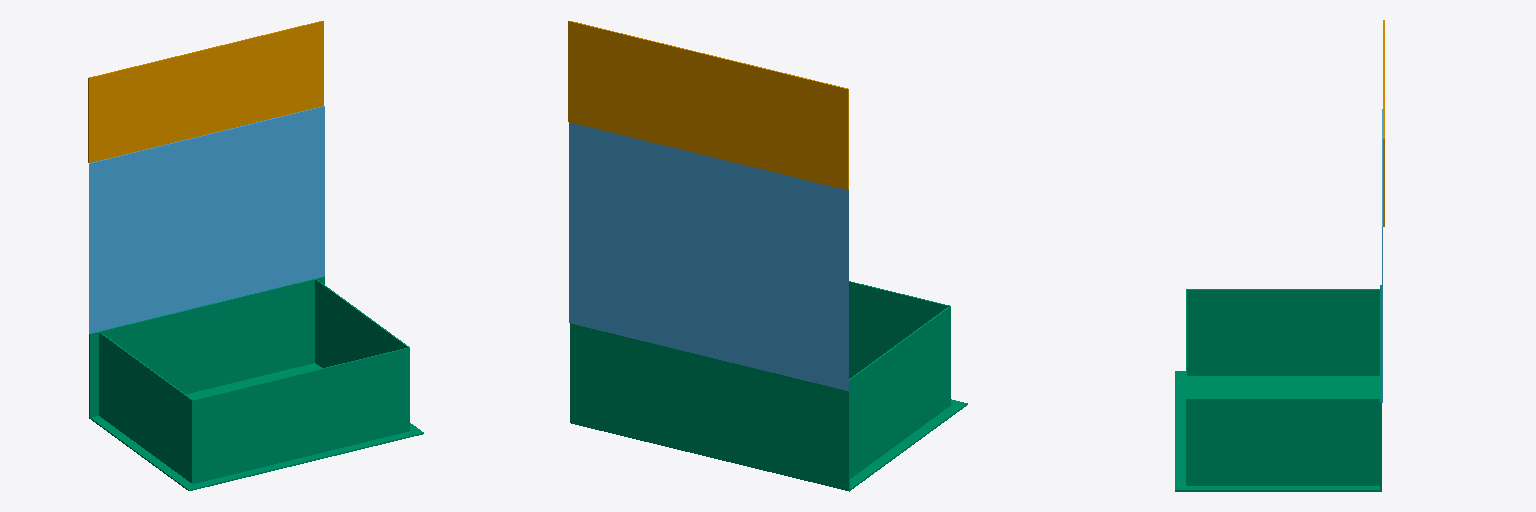
The robot description file, URDF, robot "object":
<?xml version="1.0" ?>
<robot name="object">
  <!-- <link name="world"/>
  <joint name="world_joint" type="fixed">
    <origin xyz="0.0 0.0 0.0"/>
    <parent link="world"/>
    <child link="link_0"/>
    <dynamics damping="0.0" friction="0.0"/>
  </joint> -->
  <joint name="mailer_lid_0" type="revolute">
    <origin xyz="0.0 0.0959433329385 0.0450000031292"/>
    <parent link="link_0"/>
    <child link="link_1"/>
    <dynamics damping="0.45" friction="0.12"/>
    <axis xyz="1.0 3.72529029846e-09 0.0"/>
    <limit lower="-3.14159" upper="3.14159"/>
  </joint>
  <joint name="mailer_front_flap_0" type="revolute">
    <origin xyz="0.0 0.00149999964144 0.179999999361"/>
    <parent link="link_1"/>
    <child link="link_2"/>
    <dynamics damping="0.3" friction="0.1"/>
    <axis xyz="1.0 0.0 7.45058059692e-09"/>
    <limit lower="-3.14159" upper="3.14159"/>
  </joint>
  <link name="link_2">
    <visual>
      <geometry>
        <mesh filename="assets/geom_6.obj"/>
      </geometry>
      <origin xyz="0.0 0.000749999972992 0.0450000007879"/>
    </visual>
    <inertial>
      <mass value="0.0959830101421"/>
      <inertia ixx="6.48065122495e-05" ixy="0.0" ixz="0.0" iyy="0.000608713952471" iyz="0.0" izz="0.000543943433639"/>
      <origin xyz="2.25915434592e-18 0.0981933325529 0.270000003278"/>
    </inertial>
    <collision>
      <geometry>
        <mesh filename="assets/geom_6_col0.obj"/>
      </geometry>
      <origin xyz="0.0 0.000749999972992 0.0450000007879"/>
    </collision>
  </link>
  <link name="link_1">
    <visual>
      <geometry>
        <mesh filename="assets/geom_5.obj"/>
      </geometry>
      <origin xyz="0.0 0.000750000299886 0.0900000022352"/>
    </visual>
    <inertial>
      <mass value="0.19040142948"/>
      <inertia ixx="0.000514119600864" ixy="0.0" ixz="0.0" iyy="0.00159306840582" iyz="0.0" izz="0.00107902020578"/>
      <origin xyz="0.0 0.0966933332384 0.135000005364"/>
    </inertial>
    <collision>
      <geometry>
        <mesh filename="assets/geom_5_col0.obj"/>
      </geometry>
      <origin xyz="0.0 0.000750000299886 0.0900000022352"/>
    </collision>
  </link>
  <link name="link_0">
    <visual>
      <geometry>
        <mesh filename="assets/geom_0.obj"/>
      </geometry>
      <origin xyz="0.0 -0.0848066806793 0.0"/>
    </visual>
    <inertial>
      <mass value="0.0883799956691"/>
      <inertia ixx="5.96730729695e-05" ixy="0.0" ixz="0.0" iyy="0.000483880462065" iyz="0.0" izz="0.000424240531399"/>
      <origin xyz="1.2267506513e-18 -0.0848066806793 1.78262204016e-18"/>
    </inertial>
    <collision>
      <geometry>
        <mesh filename="assets/geom_0_col0.obj"/>
      </geometry>
      <origin xyz="0.0 -0.0848066806793 0.0"/>
    </collision>
    <visual>
      <geometry>
        <mesh filename="assets/geom_1.obj"/>
      </geometry>
      <origin xyz="0.0 0.0951933264732 0.0"/>
    </visual>
    <inertial>
      <mass value="0.0959830257748"/>
      <inertia ixx="6.48065442584e-05" ixy="0.0" ixz="0.0" iyy="0.000608714073066" iyz="0.0" izz="0.000543943522231"/>
      <origin xyz="2.25915397797e-18 0.0951933264732 1.64141656212e-18"/>
    </inertial>
    <collision>
      <geometry>
        <mesh filename="assets/geom_1_col0.obj"/>
      </geometry>
      <origin xyz="0.0 0.0951933264732 0.0"/>
    </collision>
    <visual>
      <geometry>
        <mesh filename="assets/geom_2.obj"/>
      </geometry>
      <origin xyz="-0.119999997318 0.00519332289696 0.0"/>
    </visual>
    <inertial>
      <mass value="0.0664200004506"/>
      <inertia ixx="0.000224167519336" ixy="0.0" ixz="0.0" iyy="4.48459575441e-05" iyz="0.0" izz="0.000179346469146"/>
      <origin xyz="-0.119999997318 0.00519332289696 0.0"/>
    </inertial>
    <collision>
      <geometry>
        <mesh filename="assets/geom_2_col0.obj"/>
      </geometry>
      <origin xyz="-0.119999997318 0.00519332289696 0.0"/>
    </collision>
    <visual>
      <geometry>
        <mesh filename="assets/geom_3.obj"/>
      </geometry>
      <origin xyz="0.119999997318 0.00519332289696 0.0"/>
    </visual>
    <inertial>
      <mass value="0.0664200004506"/>
      <inertia ixx="0.000224167519336" ixy="0.0" ixz="0.0" iyy="4.48459575441e-05" iyz="0.0" izz="0.000179346469146"/>
      <origin xyz="0.119999997318 0.00519332289696 0.0"/>
    </inertial>
    <collision>
      <geometry>
        <mesh filename="assets/geom_3_col0.obj"/>
      </geometry>
      <origin xyz="0.119999997318 0.00519332289696 0.0"/>
    </collision>
    <visual>
      <geometry>
        <mesh filename="assets/geom_4.obj"/>
      </geometry>
      <origin xyz="0.0 0.0 -0.0442500002682"/>
    </visual>
    <inertial>
      <mass value="0.201297989126"/>
      <inertia ixx="0.000608076396578" ixy="0.0" ixz="0.0" iyy="0.00114077188519" iyz="0.0" izz="0.00174877279471"/>
      <origin xyz="7.74245500273e-19 -8.58402619868e-19 -0.0442500002682"/>
    </inertial>
    <collision>
      <geometry>
        <mesh filename="assets/geom_4_col0.obj"/>
      </geometry>
      <origin xyz="0.0 0.0 -0.0442500002682"/>
    </collision>
  </link>
</robot>

--- What the picture shows (computed from the rendered views, not written in the file) ---
The picture shows the robot from 3 angles, left to right: view 1: azimuth 30°, elevation 25°; view 2: azimuth 150°, elevation 25°; view 3: azimuth 270°, elevation 25°; orthographic projection.
Model object with 3 links and 2 joints (2 revolute), rooted at link_0, posed all joints at 0.
Visible links, largest first — view 1: link_0, link_1, link_2; view 2: link_1, link_0, link_2; view 3: link_0.
Link boxes in pixels (x1=…): link_0: x1=89, y1=276, x2=423, y2=490; link_1: x1=89, y1=106, x2=324, y2=333; link_2: x1=88, y1=21, x2=323, y2=162; link_1: x1=569, y1=122, x2=848, y2=390; link_0: x1=570, y1=281, x2=967, y2=491; link_2: x1=568, y1=21, x2=848, y2=189; link_0: x1=1175, y1=285, x2=1381, y2=491.
Bounding box of the posed robot: 0.2608 × 0.1941 × 0.36 m (x, y, z).
7 mesh visuals loaded from 7 distinct referenced files (7 OBJ).
